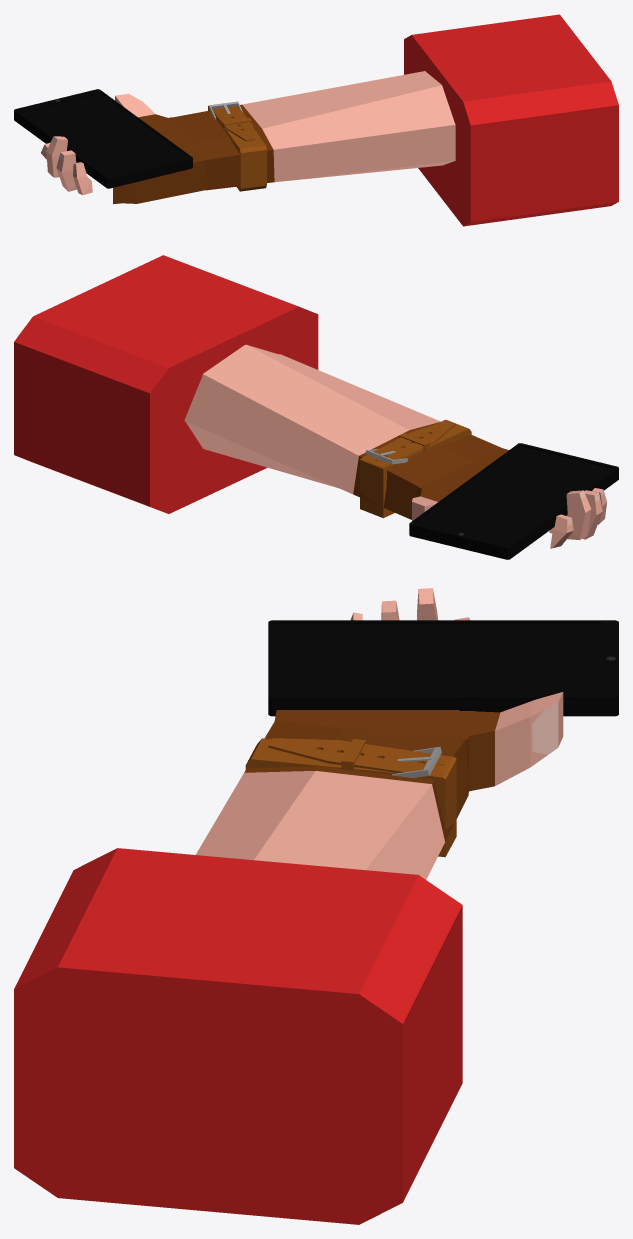
The model's file is BrazoMovilDerecho.fbx.
3 renders of one model, top to bottom at view 1: azimuth 30°, elevation 25°; view 2: azimuth 150°, elevation 25°; view 3: azimuth 270°, elevation 25°, orthographic. The views are drawn at different scales.
Parts seen in each view (by area): view 1: Mano D.008, Mano D.007; view 2: Mano D.008, Mano D.006, Mano D.007; view 3: Mano D.008.
Boxes of the visible parts, x1,y1,x2,y2 form: Mano D.008: (14,14,618,226); Mano D.007: (56,150,76,191); Mano D.008: (14,255,618,559); Mano D.006: (549,514,573,548); Mano D.007: (582,490,602,539); Mano D.008: (14,588,618,1224).
Bounding box in the file's own units: 51.74 × 12.42 × 29.5.
